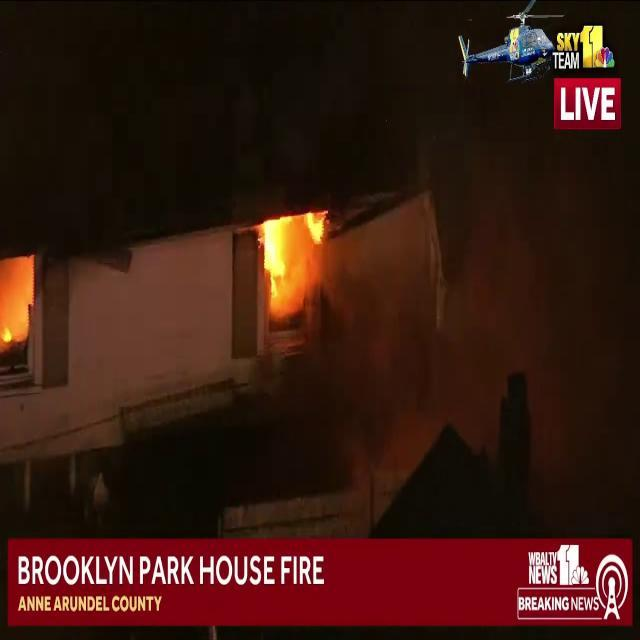Fire: (254, 206, 328, 316)
